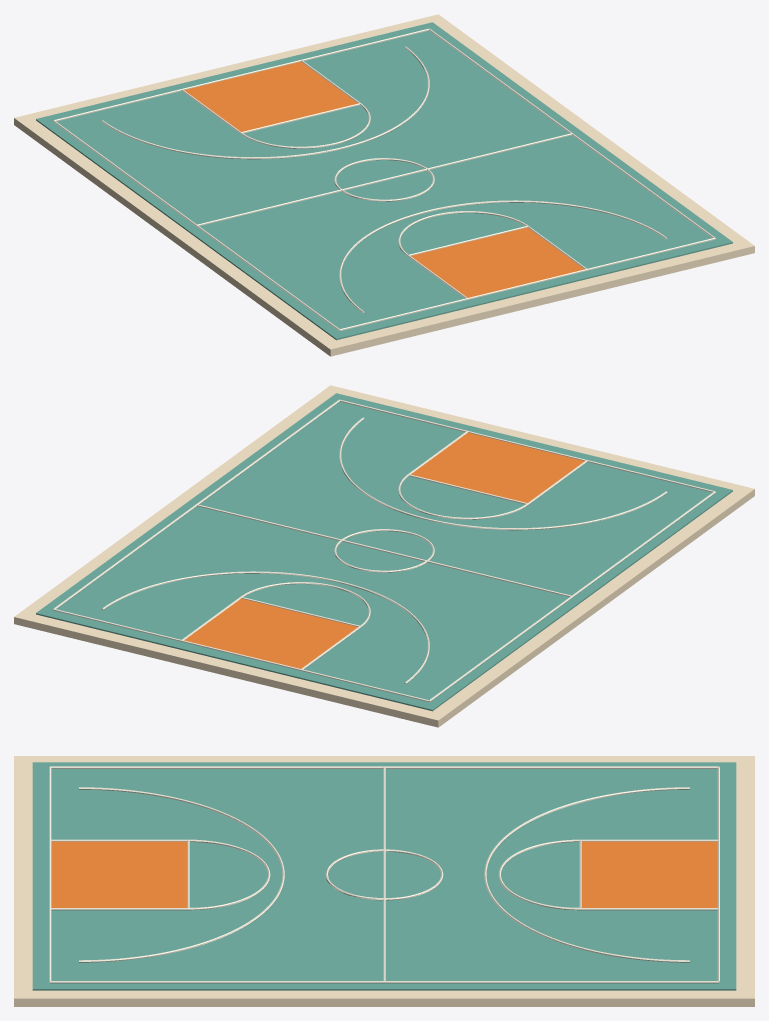
The model's file is Sport_Basketball_Court.glb.
3 renders of one model, top to bottom at view 1: azimuth 30°, elevation 25°; view 2: azimuth 150°, elevation 25°; view 3: azimuth 270°, elevation 25°, orthographic. The views are drawn at different scales.
Visible parts, largest first — view 1: Sport_Basketball_Court; view 2: Sport_Basketball_Court; view 3: Sport_Basketball_Court.
Part boxes in pixels (x1=…): Sport_Basketball_Court: x1=14, y1=14, x2=754, y2=356; Sport_Basketball_Court: x1=14, y1=385, x2=754, y2=727; Sport_Basketball_Court: x1=14, y1=756, x2=754, y2=1006.
Size of the model in its own units: 9.95 by 0.2272 by 12.85.
